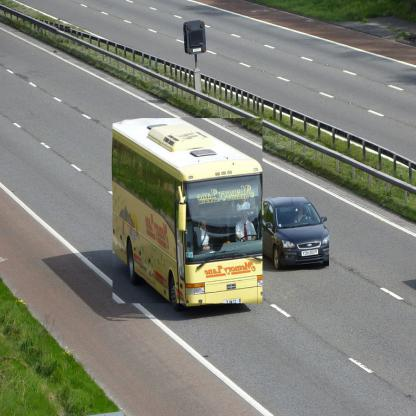bus: (113, 119, 264, 305)
car: (261, 198, 330, 271)
